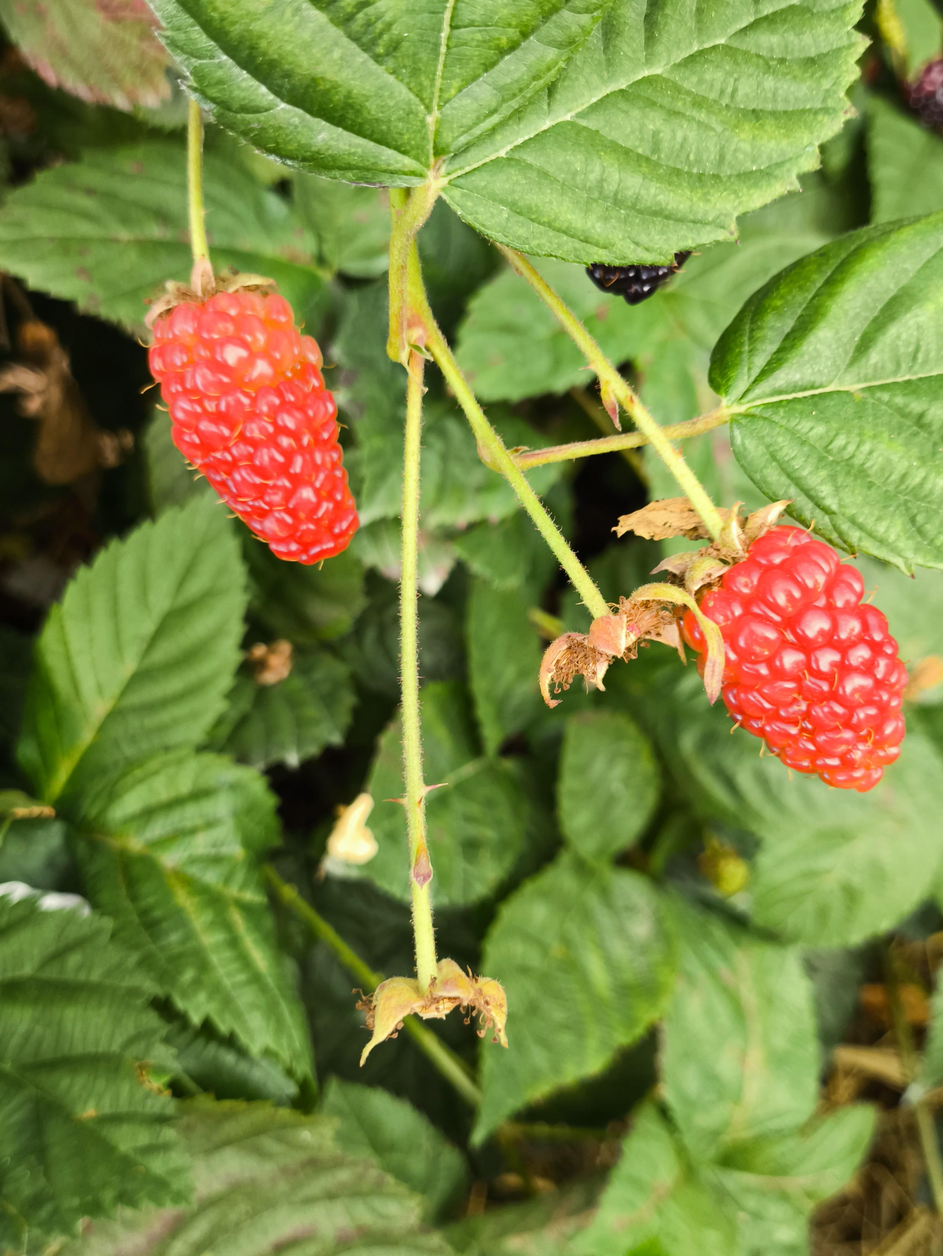naranja: (149, 290, 358, 564), (701, 527, 907, 792)
